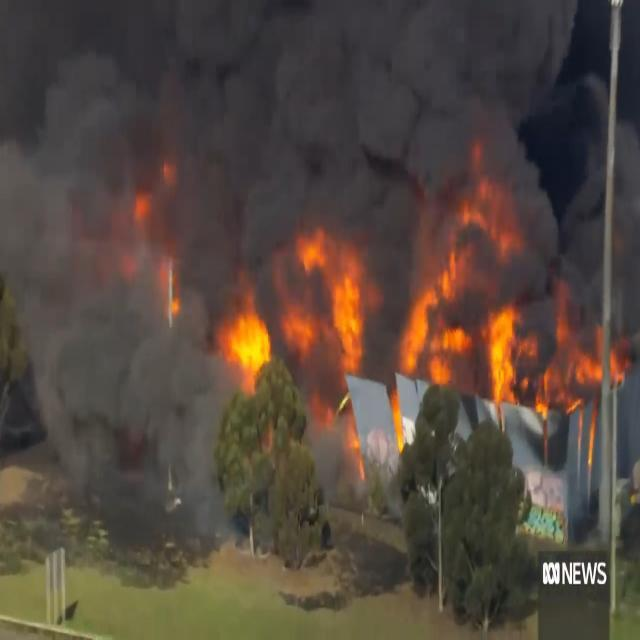fire: (394, 248, 470, 382), (218, 298, 281, 383), (332, 264, 370, 372), (449, 164, 521, 220), (480, 306, 517, 408), (582, 341, 620, 394), (288, 225, 326, 268), (286, 308, 324, 339)
